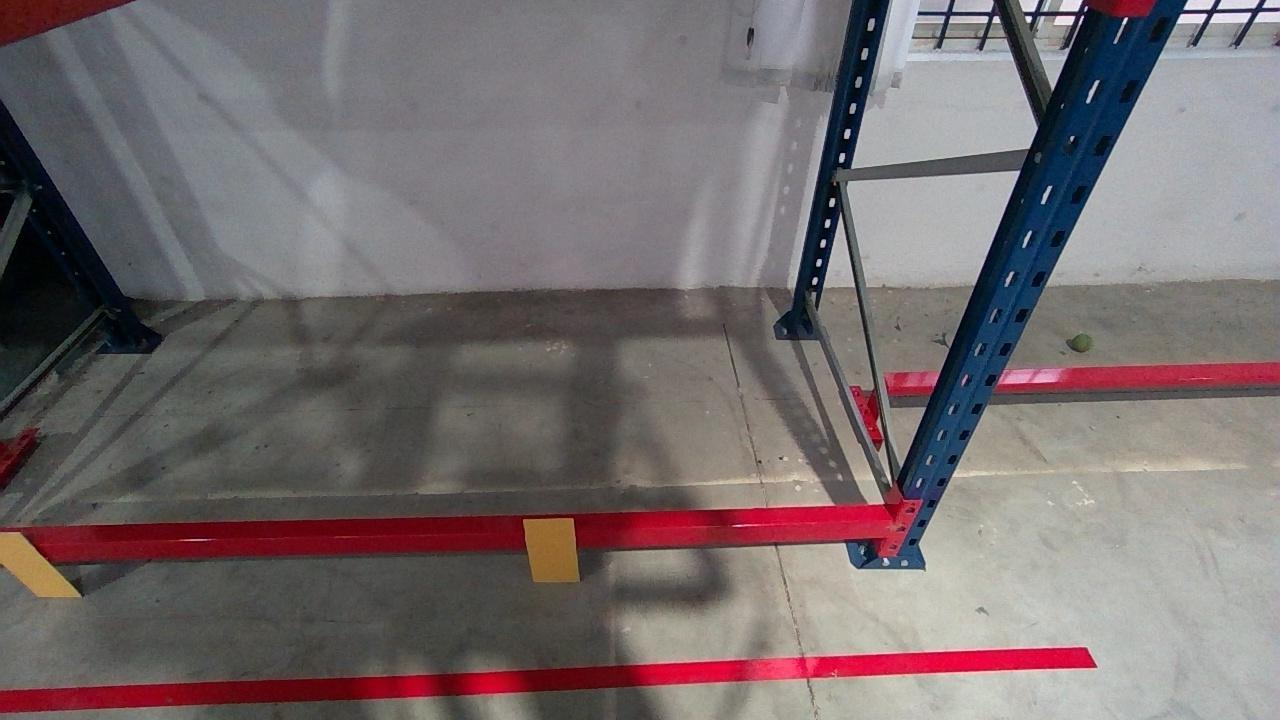h_rack: (1, 517, 897, 560)
orange_strip: (0, 531, 80, 597), (522, 518, 579, 582)
red_line: (0, 648, 1095, 712)
